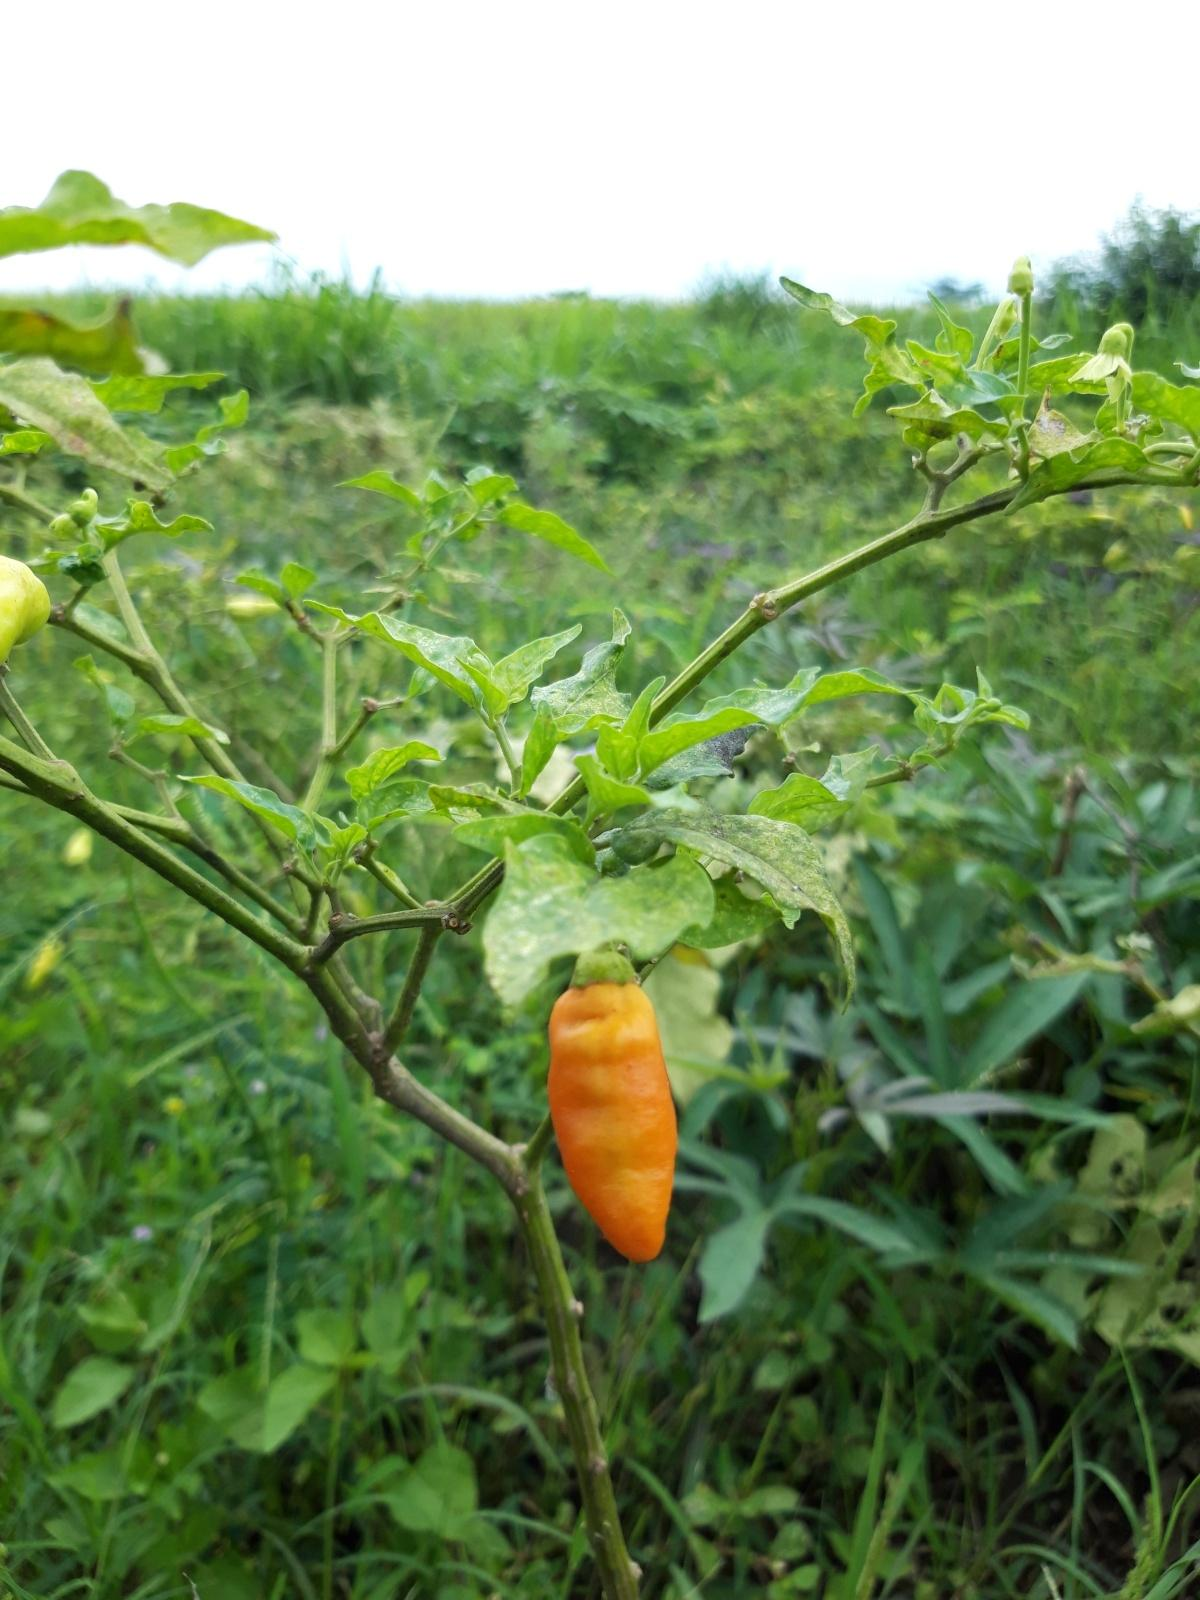cabai_normal: (550, 955, 686, 1262)
